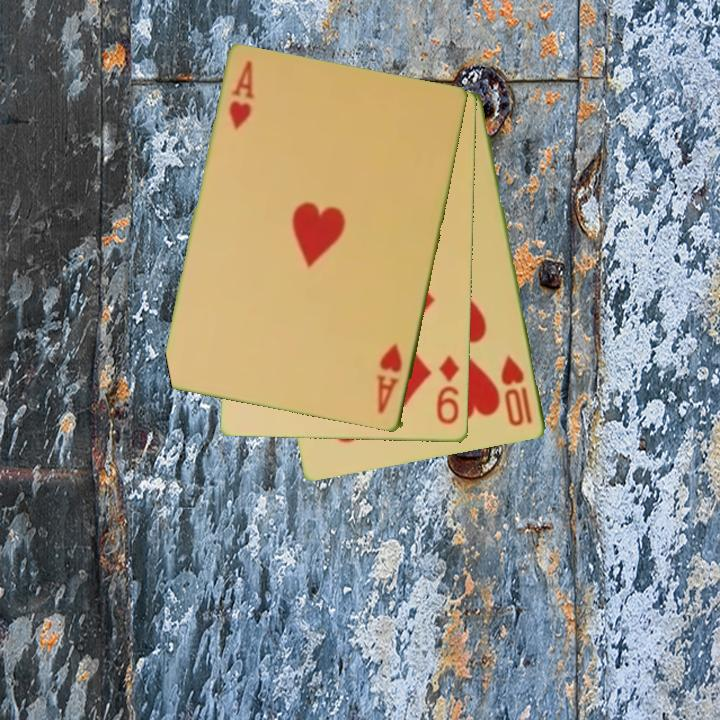10h: (497, 352, 536, 430)
9d: (433, 353, 462, 428)
Ah: (374, 340, 406, 417), (225, 57, 256, 133)
